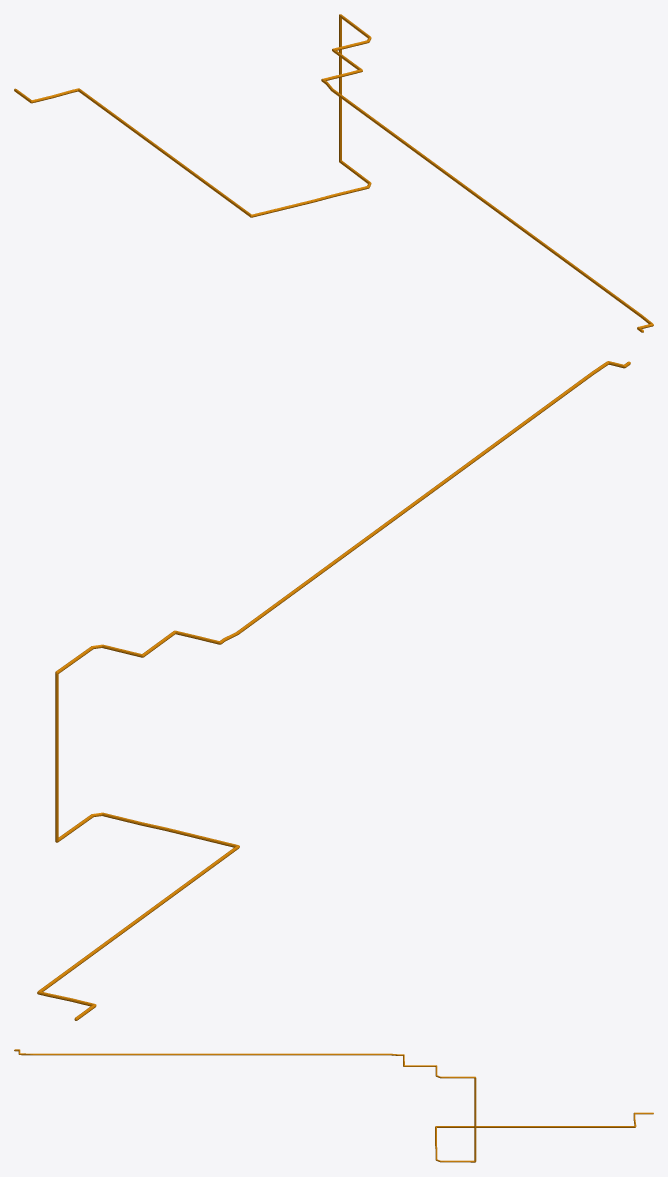
3 views of the same model, one above another, from view 1: azimuth 30°, elevation 25°; view 2: azimuth 150°, elevation 25°; view 3: azimuth 270°, elevation 25° (orthographic). The views are drawn at different scales.
Bounding box in the file's own units: 1247 × 1020 × 6903.
